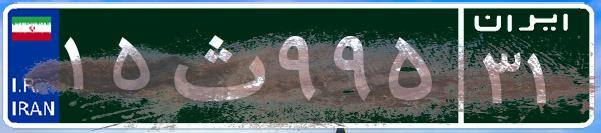1: (57, 26, 110, 107), (525, 38, 570, 115)
3: (475, 38, 525, 113)
5: (385, 28, 445, 110), (110, 28, 158, 105)
9: (273, 28, 330, 110), (330, 28, 385, 110)
ث: (158, 15, 273, 115)
